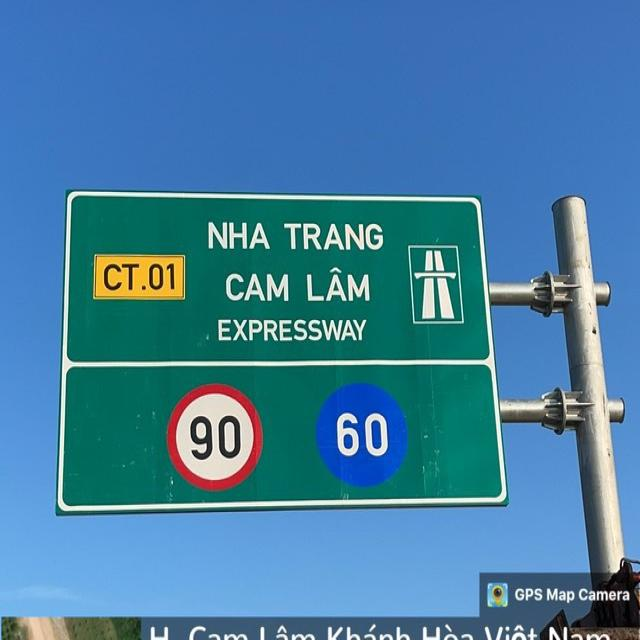Speed Limit -90-: (168, 384, 264, 491)
